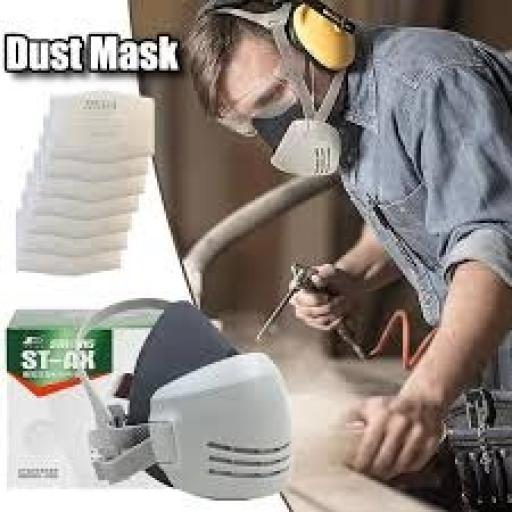mask: (246, 112, 364, 182)
